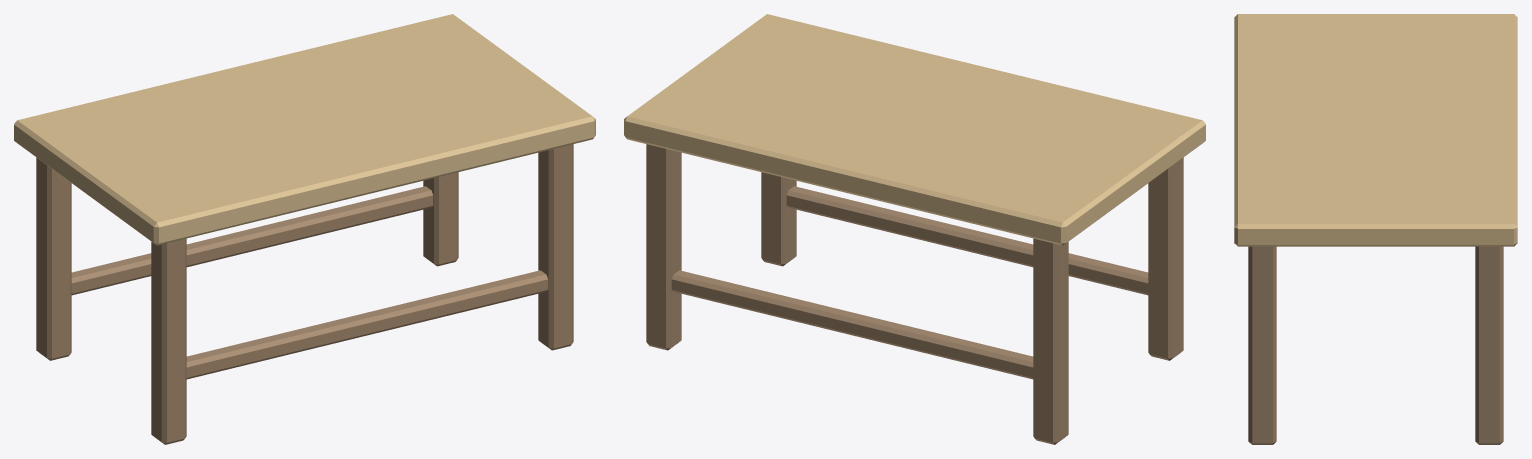
The picture shows the model from 3 angles, left to right: view 1: azimuth 30°, elevation 25°; view 2: azimuth 150°, elevation 25°; view 3: azimuth 270°, elevation 25°; orthographic projection.
Parts seen in each view (by area): view 1: 桌面.001, 桌腿.001, 横撑; view 2: 桌面.001, 桌腿.001, 横撑; view 3: 桌面.001, 桌腿.001.
Part boxes in pixels (box(x1,y1,x2,y2)): 桌面.001: box(14, 14, 595, 245); 桌腿.001: box(36, 144, 573, 444); 横撑: box(71, 186, 548, 379); 桌面.001: box(624, 14, 1205, 245); 桌腿.001: box(646, 144, 1183, 444); 横撑: box(671, 186, 1148, 379); 桌面.001: box(1234, 14, 1517, 246); 桌腿.001: box(1248, 246, 1503, 444).
Bounding box in the file's own units: 160 × 80 × 90.
